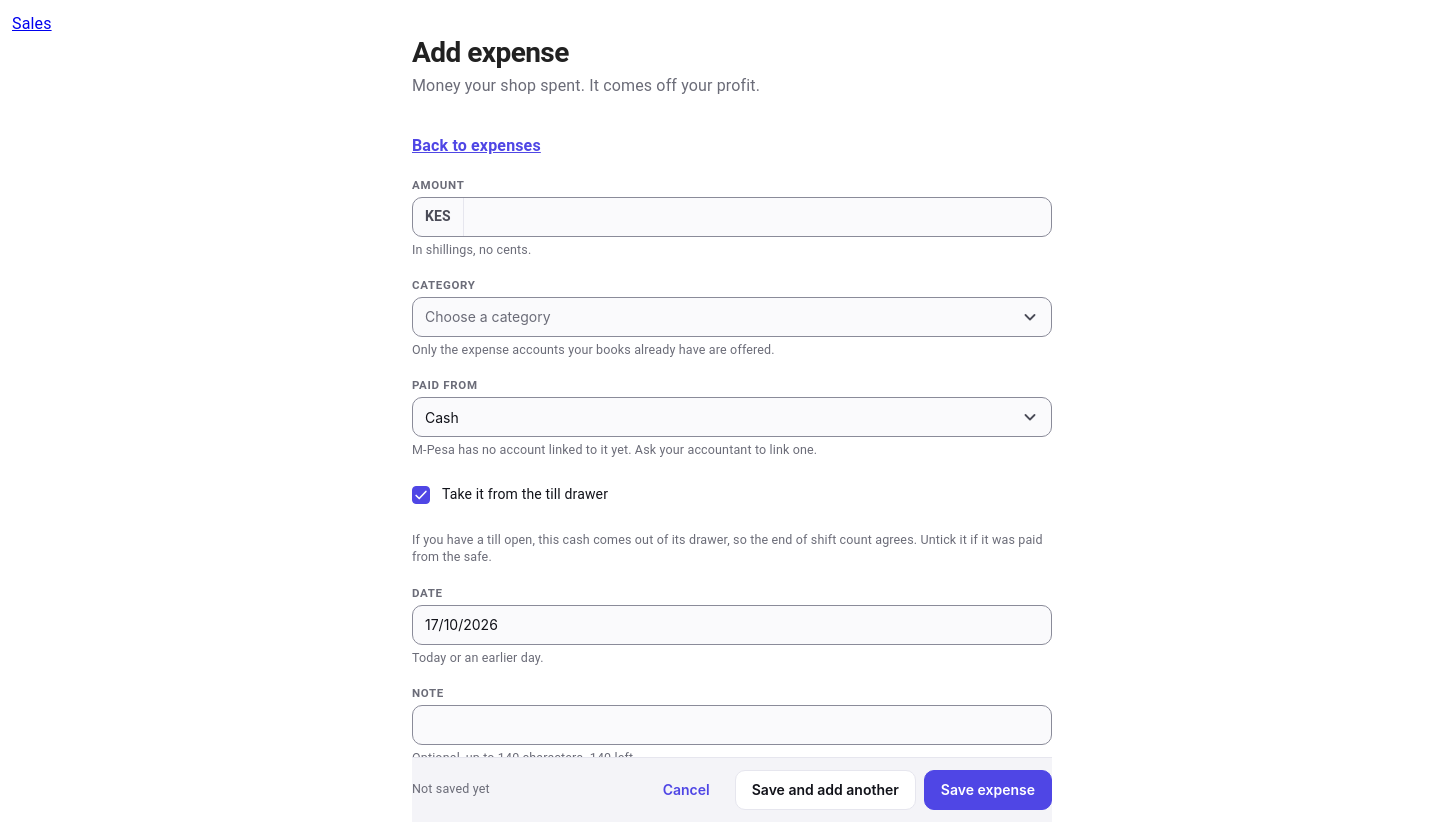
the form (Form page pattern) › a way of paying the shop has not set up says so and cannot be chosen
expect the field labelled "Amount" is shown: met, box top-left (464, 198), bottom-right (1051, 236)
expect the text "M-Pesa has no account linked to it yet. Ask your accountant to link one." is shown: met, box top-left (412, 442), bottom-right (817, 457)
Click the dropdown labelled "Cash" at [442, 417], box top-left (412, 397), bottom-right (1052, 437)
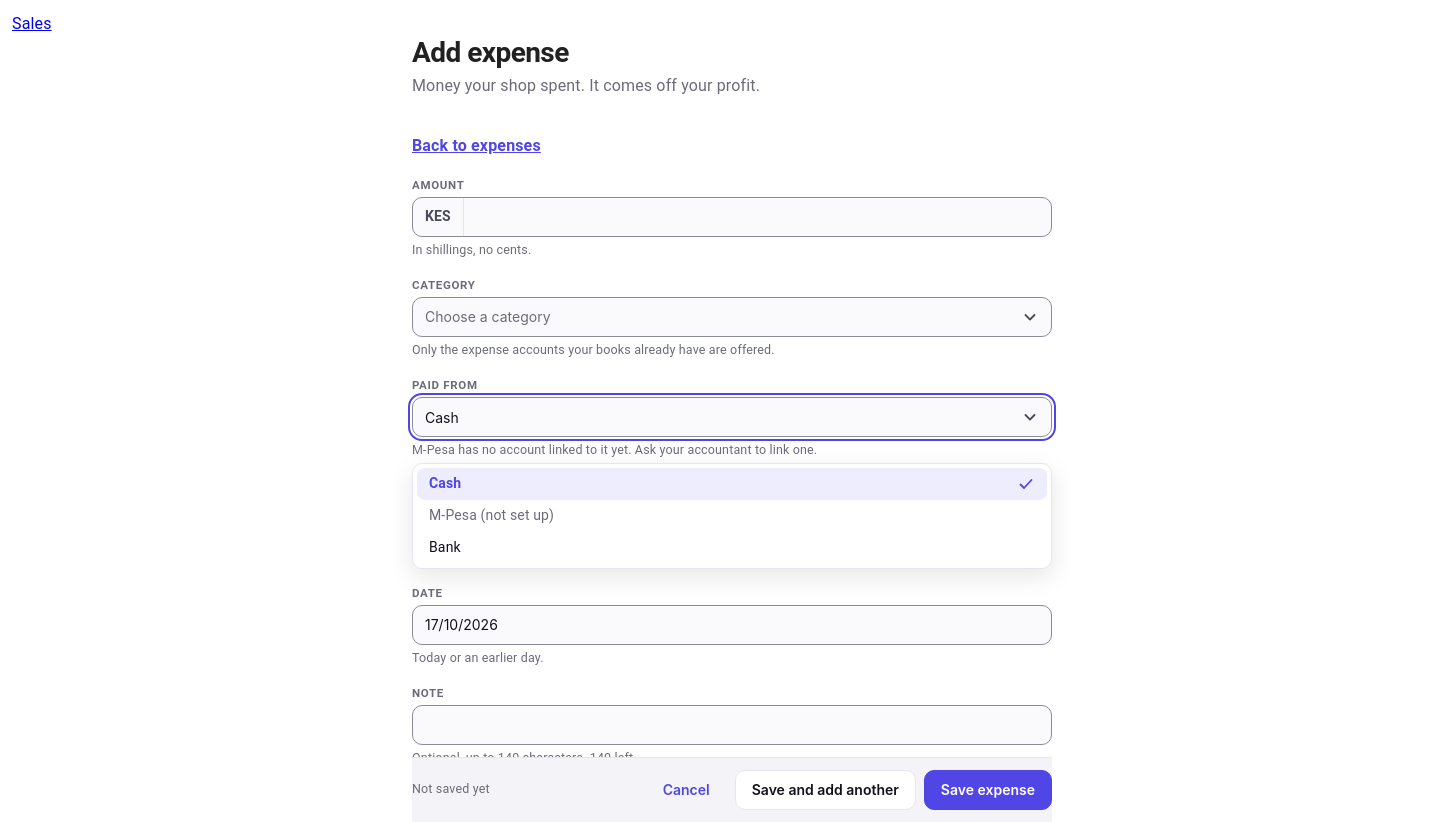
expect the options read "Cash", "M-Pesa (not set up)", "Bank", in this order: met, box top-left (417, 468), bottom-right (1047, 500); top-left (429, 507), bottom-right (554, 523); top-left (429, 539), bottom-right (461, 555)
